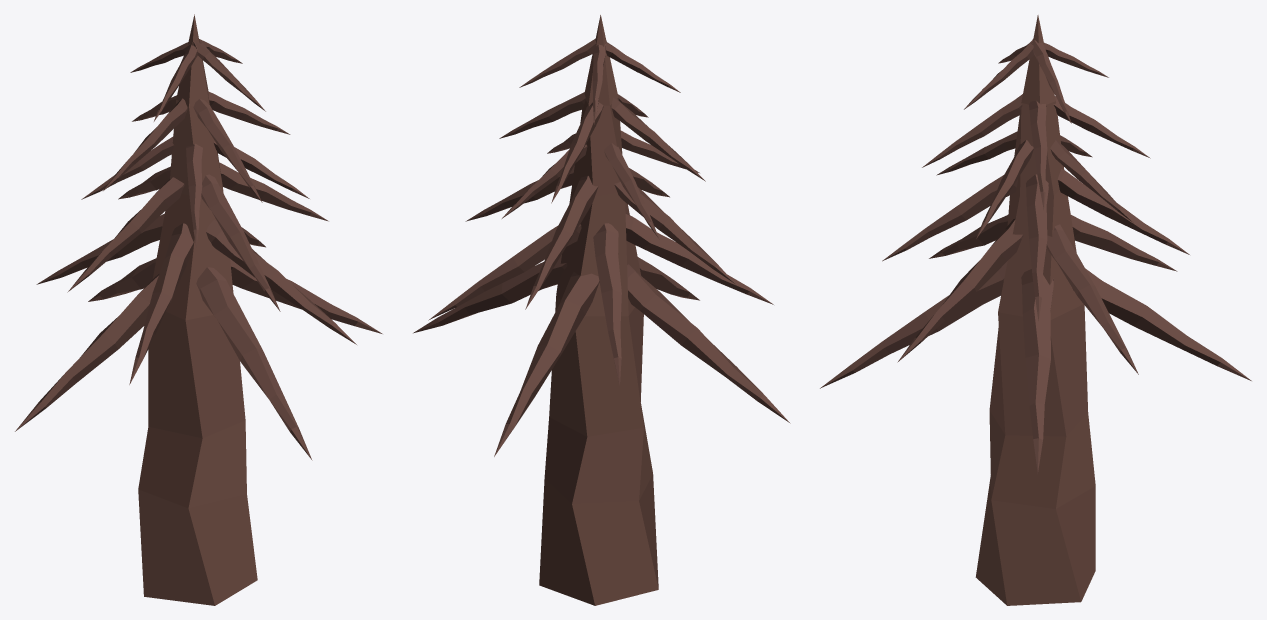
Rendered from Dead_Tree.fbx.
3 renders of one model, left to right at view 1: azimuth 30°, elevation 25°; view 2: azimuth 150°, elevation 25°; view 3: azimuth 270°, elevation 25°, orthographic.
Parts seen in each view (by area): view 1: Cylinder.001; view 2: Cylinder.001; view 3: Cylinder.001.
Part boxes in pixels (left/top/right/bottom): Cylinder.001: left=15, top=14, right=382, bottom=605; Cylinder.001: left=413, top=15, right=790, bottom=605; Cylinder.001: left=820, top=15, right=1251, bottom=605.
Size of the model in its own units: 3.39 by 4.9 by 3.39.
